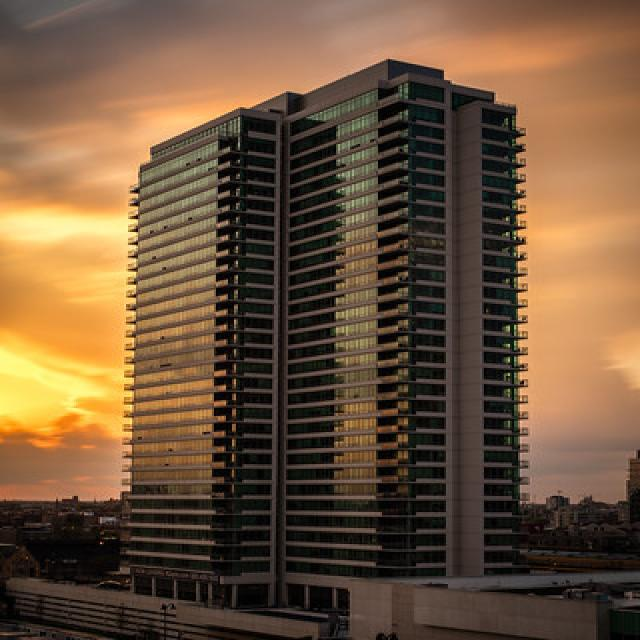building: (117, 51, 539, 613)
